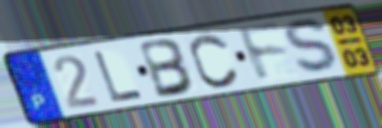2: (52, 53, 101, 110)
B: (137, 37, 198, 101)
C: (187, 31, 242, 89)
F: (234, 21, 292, 85)
L: (91, 49, 146, 103)
S: (283, 17, 345, 76)
